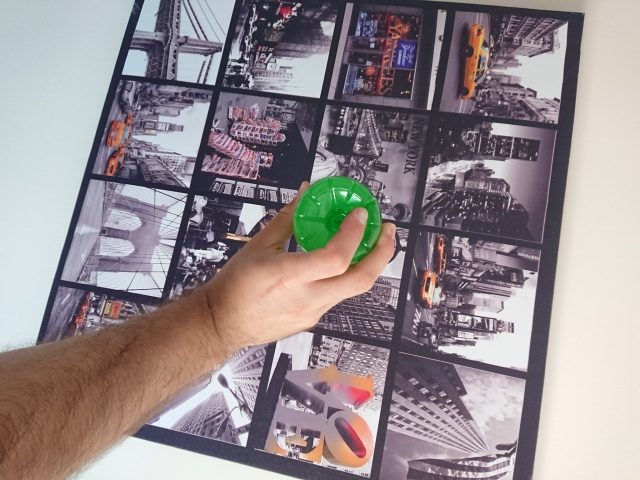Vindi Iso Sport Lemon-Grapefruit 500mL: (289, 173, 386, 271)
